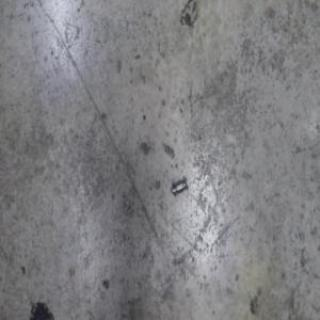Bolttrack_idkeyframe: (170, 176, 187, 198)
